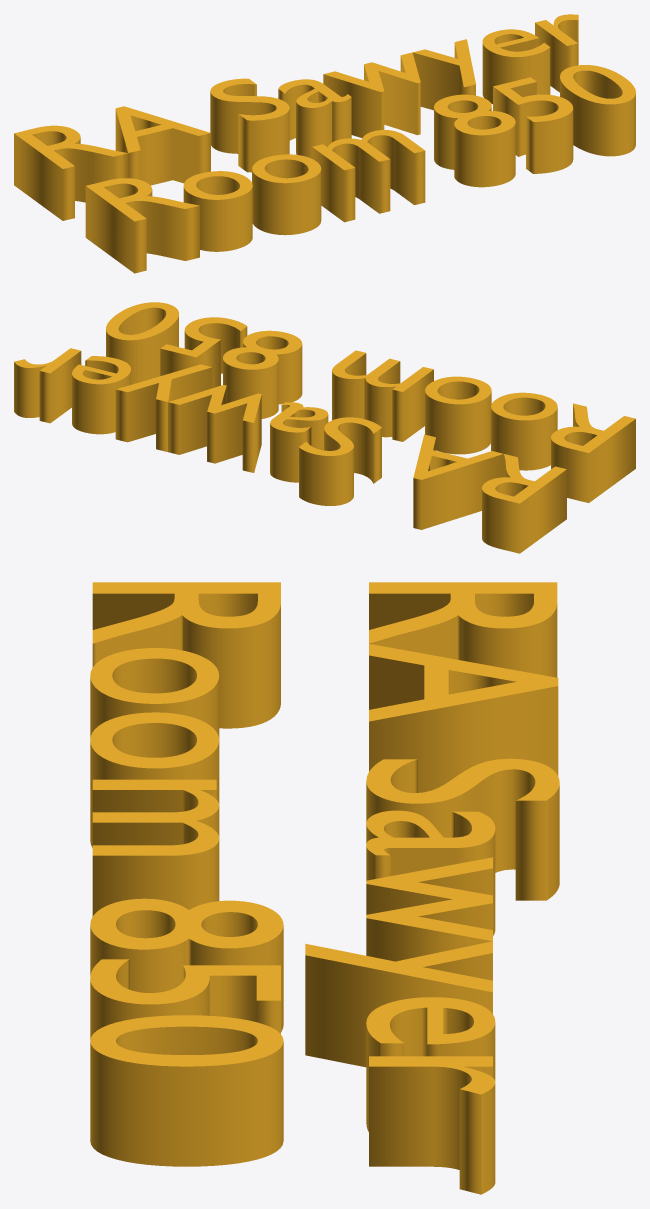
File: ra-sawyer-850.gltf
3 renders of one model, top to bottom at view 1: azimuth 30°, elevation 25°; view 2: azimuth 150°, elevation 25°; view 3: azimuth 270°, elevation 25°, orthographic. The views are drawn at different scales.
Visible parts, largest first — view 1: Text; view 2: Text; view 3: Text.
Part boxes in pixels (x1,y1,x2,y2): Text: [14, 14, 635, 273]; Text: [14, 302, 635, 553]; Text: [90, 582, 559, 1194].
Bounding box in the file's own units: 4.39 × 0.4 × 1.7.
